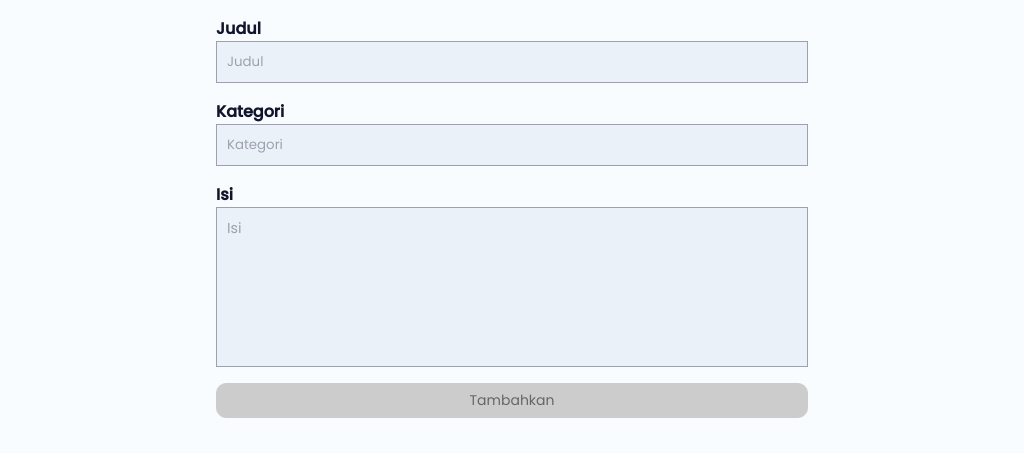
Test: ThreadForm component › should show invalid title message when title is empty
Click the field with placeholder "Judul" at (512, 62), box [216, 41, 808, 83]
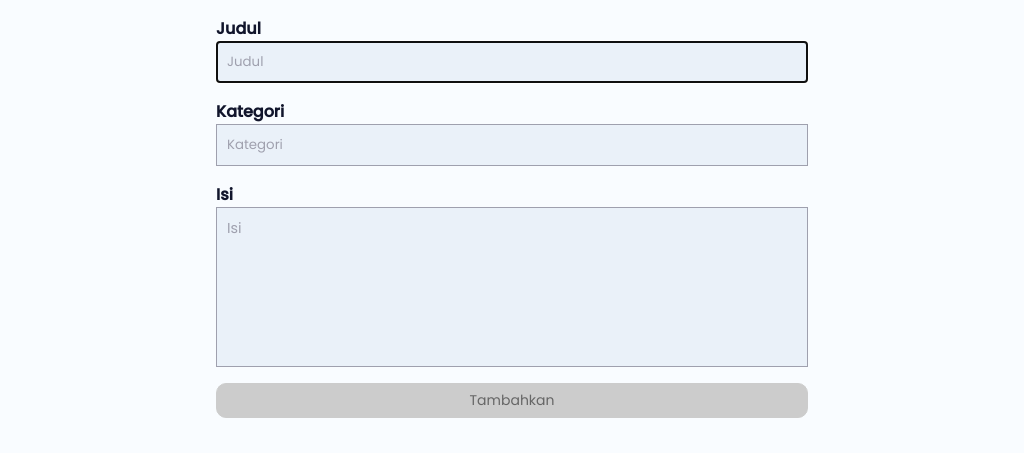
Click the element showing "Judul Kategori Isi Tambahkan" at (512, 217), box [0, 0, 1023, 434]
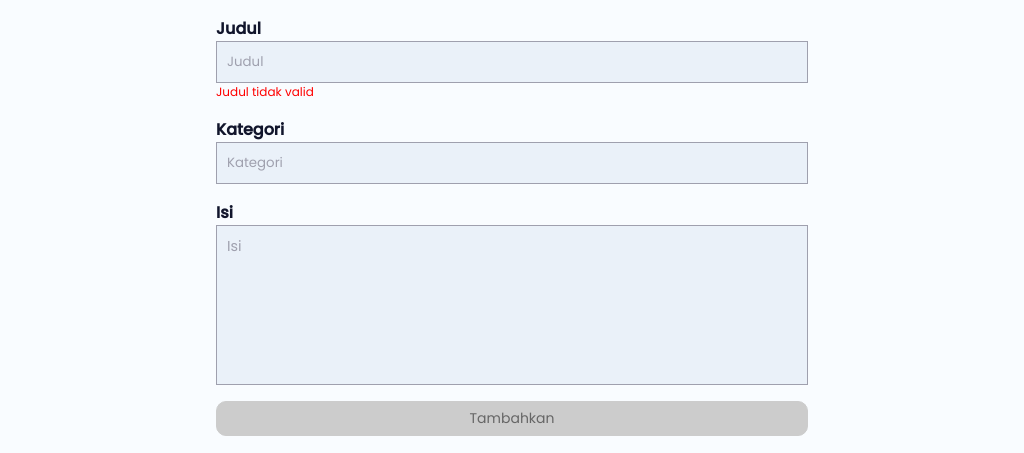
Now the text "Judul tidak valid" is shown, box [216, 83, 314, 100]
